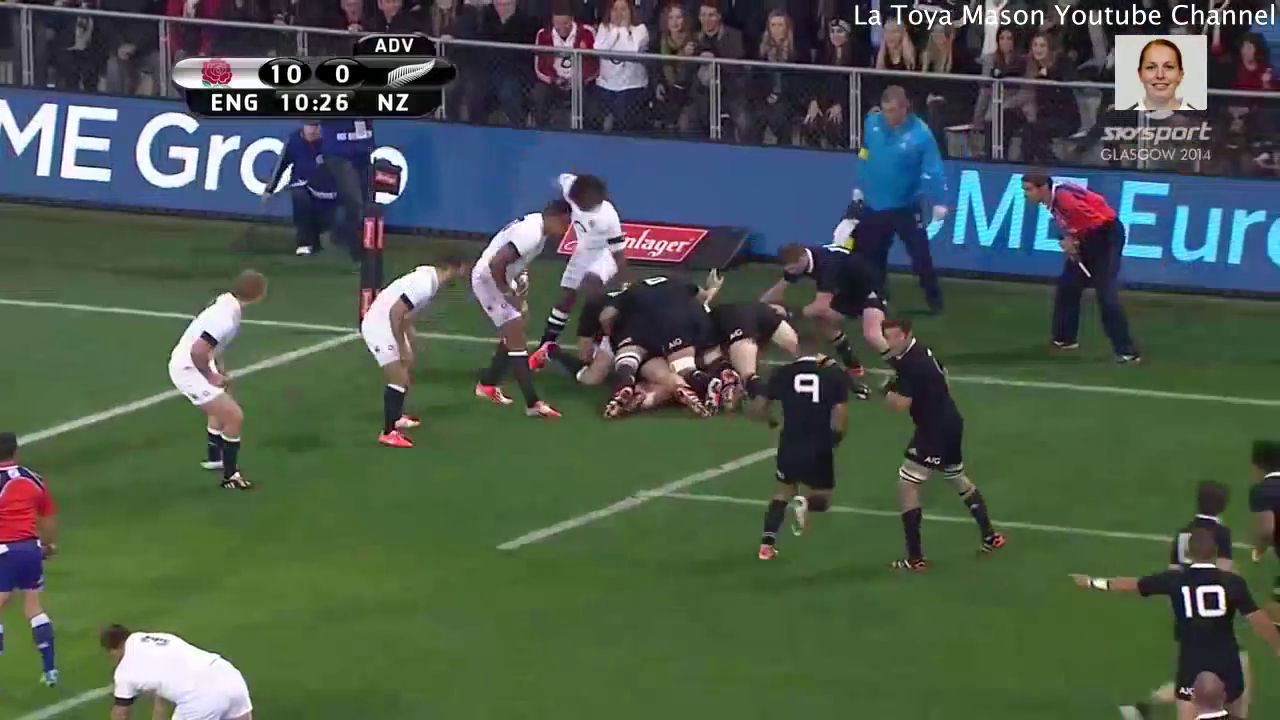player: (1067, 533, 1280, 719), (869, 314, 1013, 573), (340, 247, 477, 458), (162, 261, 280, 505), (746, 310, 851, 567), (466, 191, 573, 429), (1, 423, 73, 697), (87, 617, 264, 720), (768, 235, 897, 350), (531, 162, 620, 289), (1231, 429, 1280, 587)
ruck: (519, 259, 808, 416)
